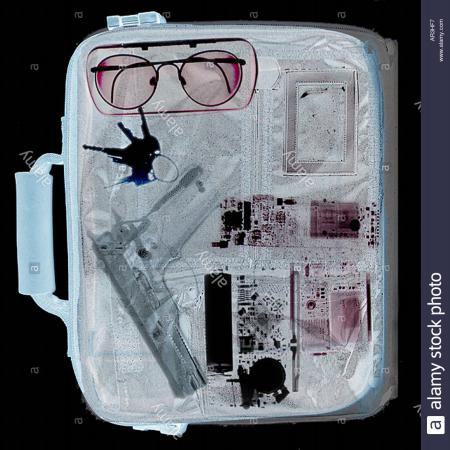Pistol: (86, 160, 216, 400)
